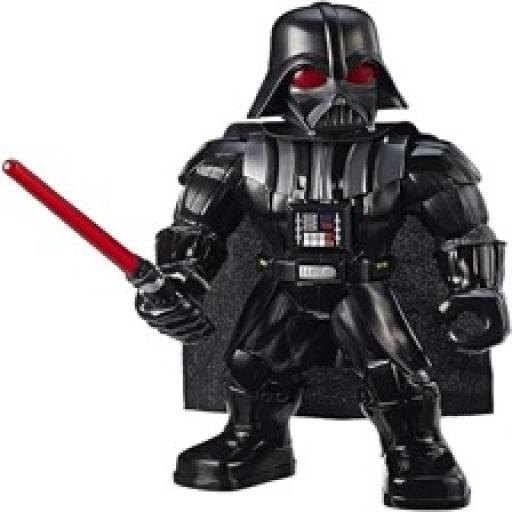sith saber: (6, 158, 214, 345)
